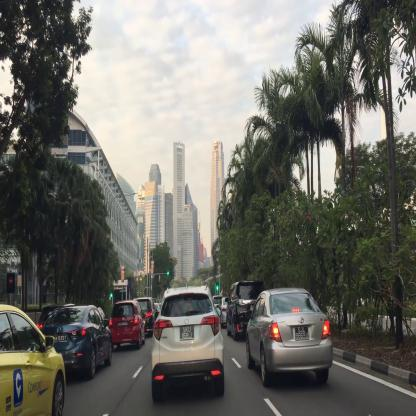green_traffic_light: (216, 281, 219, 290), (110, 288, 113, 297), (167, 272, 171, 274)
